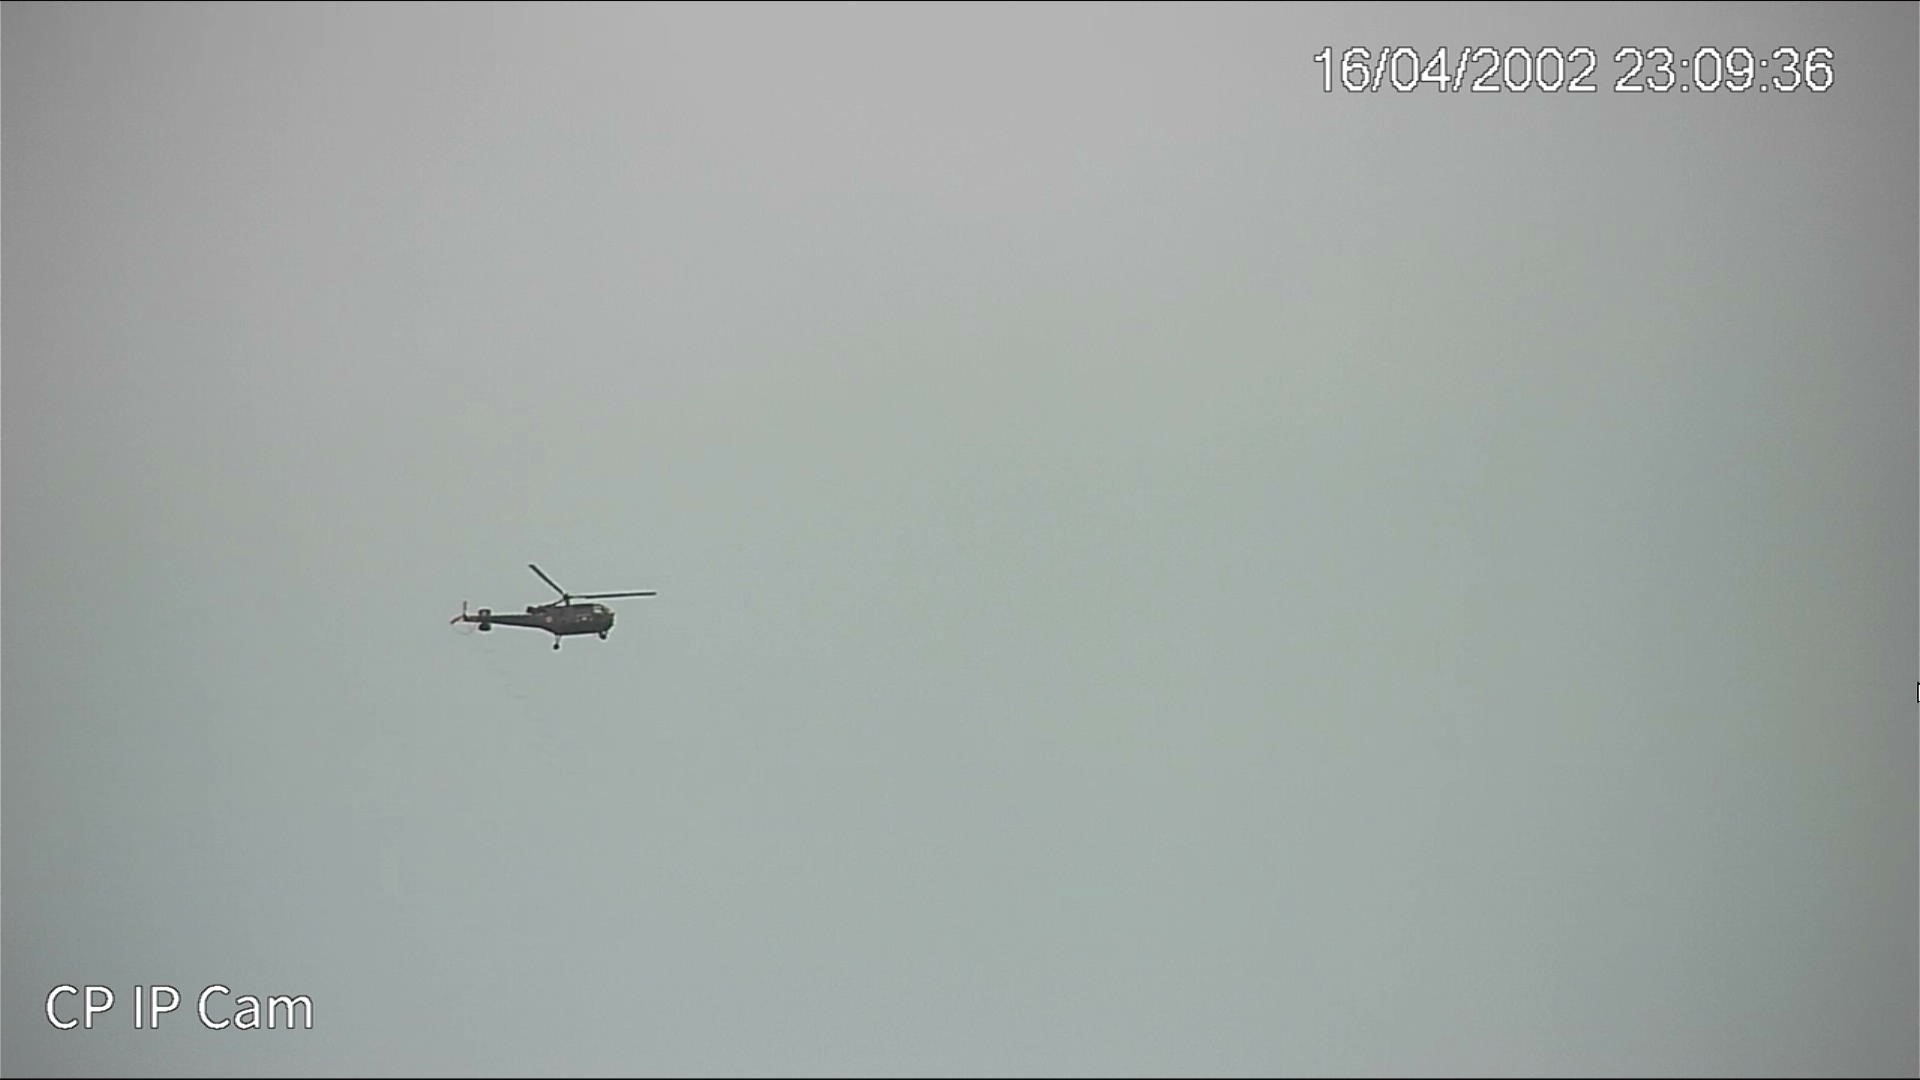SU_30: (440, 589, 622, 654)
